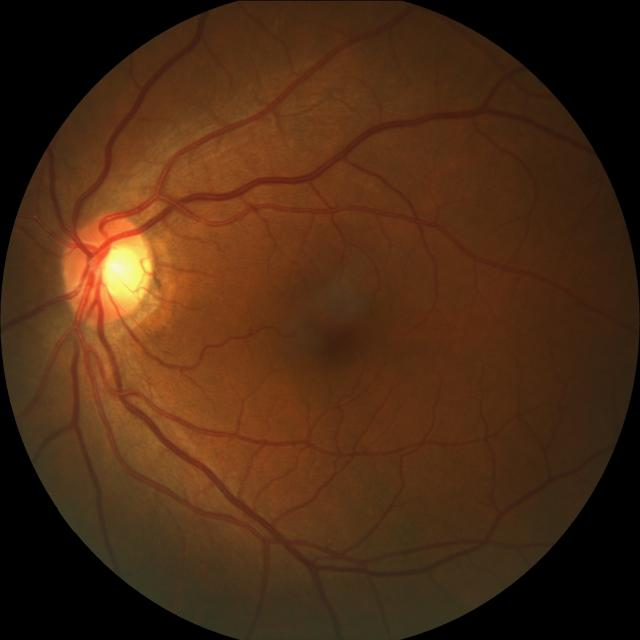OC: (89, 238, 148, 300)
OD: (64, 214, 156, 325)
